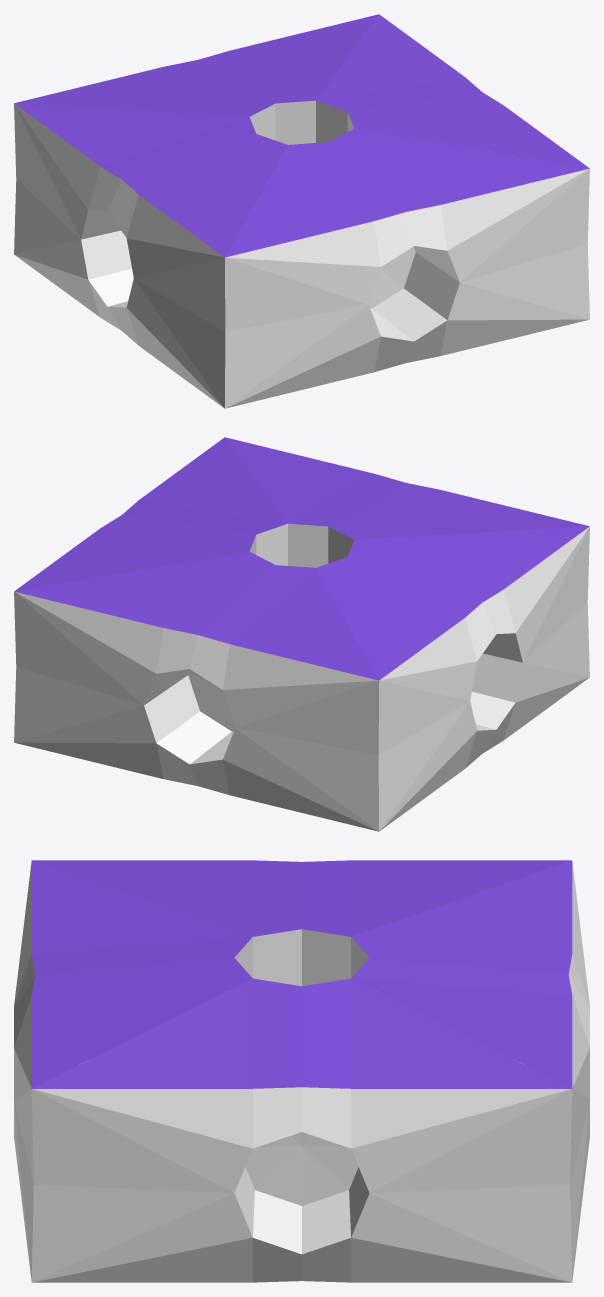
The model's file is Body1.glb.
The picture shows the model from 3 angles, top to bottom: view 1: azimuth 30°, elevation 25°; view 2: azimuth 150°, elevation 25°; view 3: azimuth 270°, elevation 25°; orthographic projection. The views are drawn at different scales.
Parts seen in each view (by area): view 1: Body1.001; view 2: Body1.001; view 3: Body1.001.
Boxes of the visible parts, box(x1,y1,x2,y2) form: Body1.001: box(14, 14, 589, 408); Body1.001: box(14, 437, 589, 831); Body1.001: box(14, 860, 589, 1282).
Bounding box in the file's own units: 2.6 × 1.13 × 2.6.
